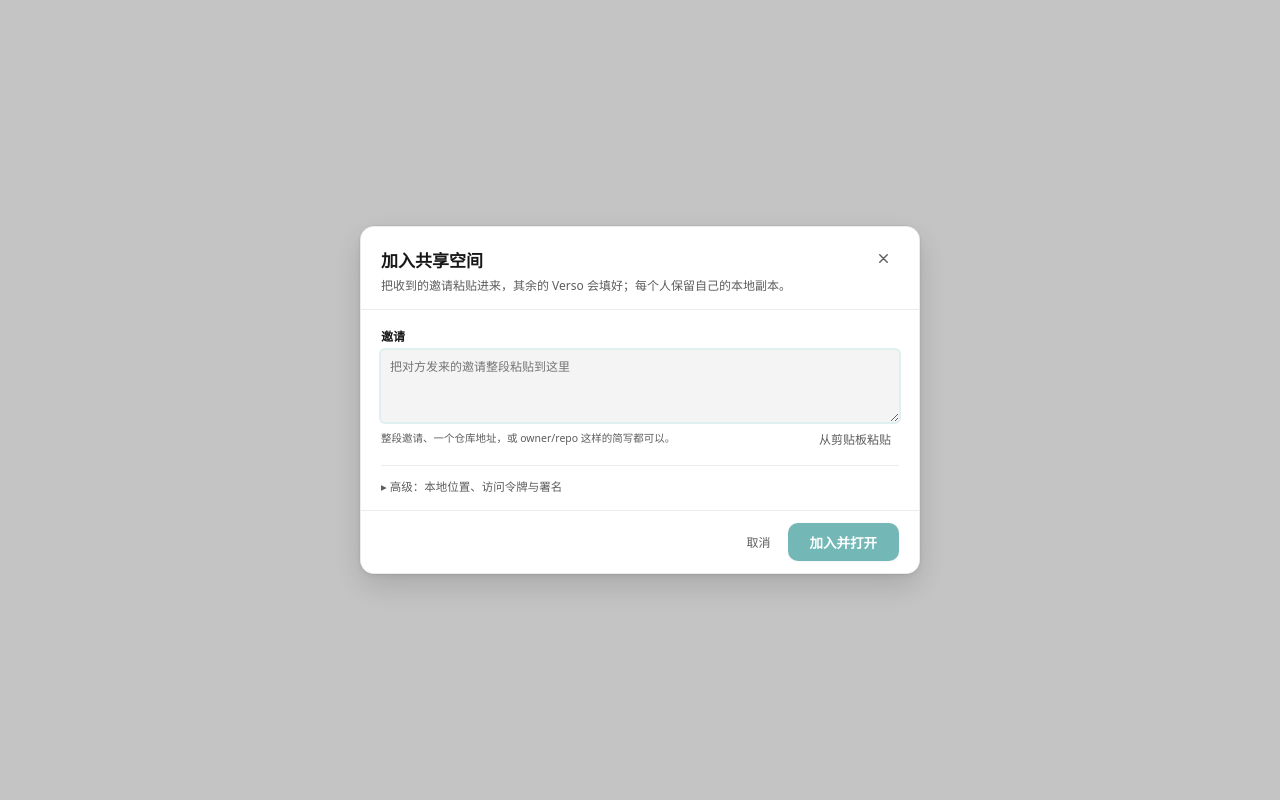
加入共享空间 › 认不出来时说清楚看到了什么，而不是把人挡在一个必填框前
Type "明天下午三点开会" into the text box with class "join-invite-input". click: point(640, 386)
box: top-left (381, 350), bottom-right (899, 422)
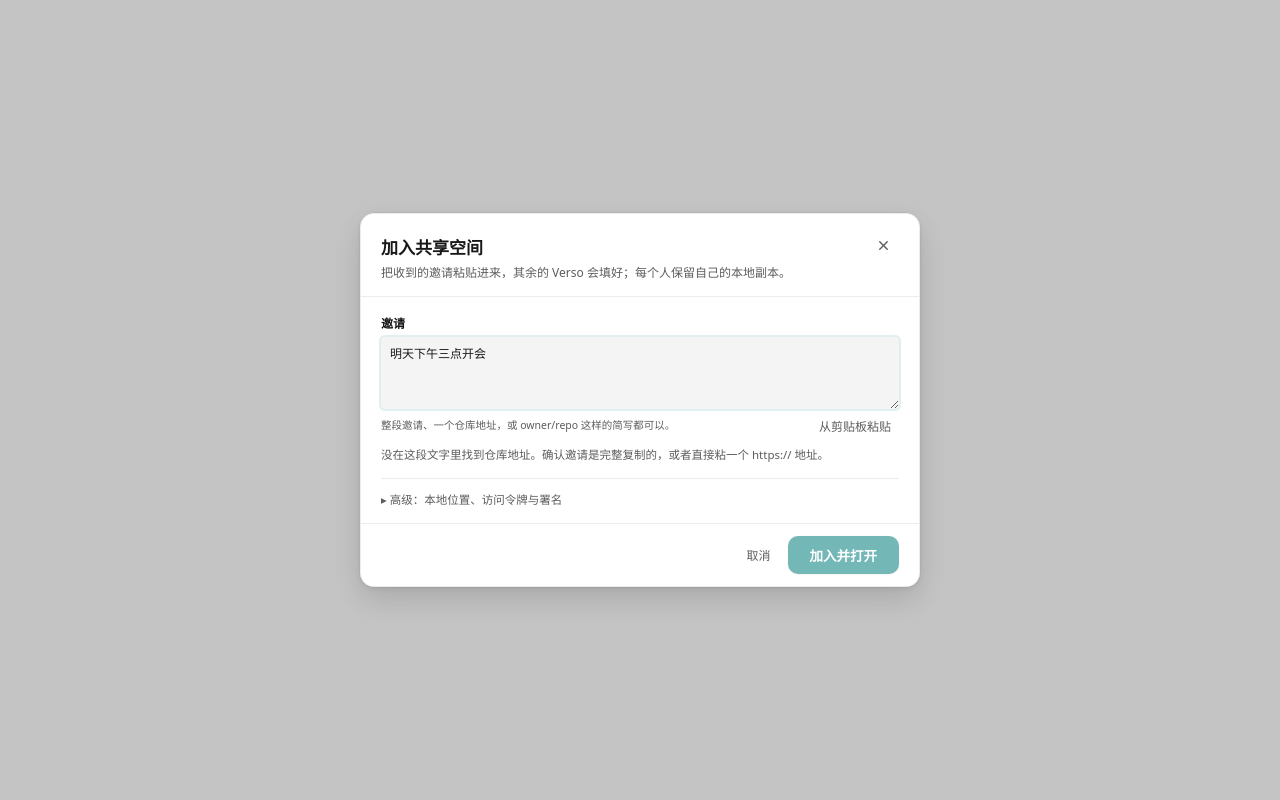
Expected: the button "加入并打开" is disabled, top-left (788, 536), bottom-right (899, 574)
Result: the text "没在这段文字里找到仓库地址" is shown at top-left (381, 447), bottom-right (829, 462)
